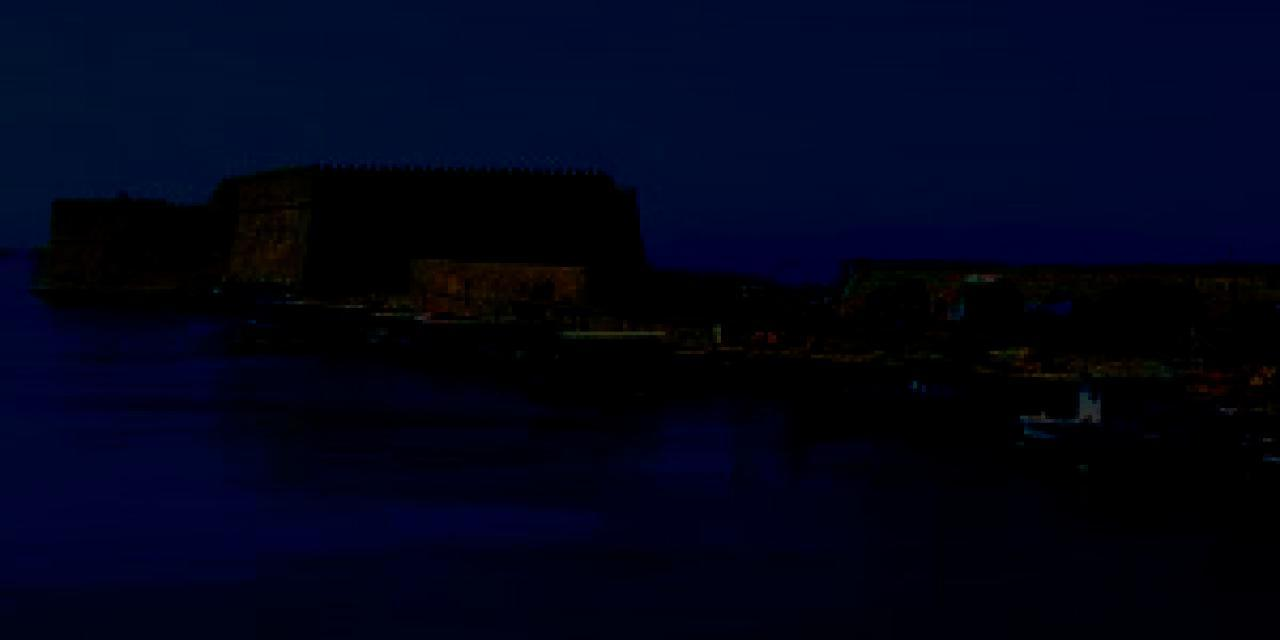Kules: (27, 158, 650, 304)
